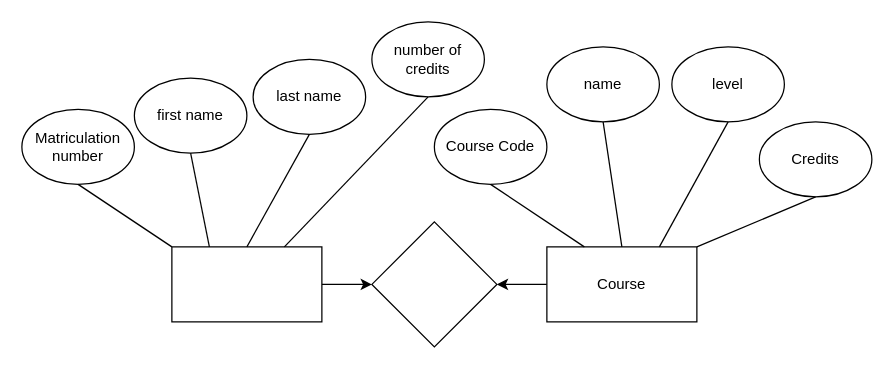
Image size: 894x369. Some labels were removed from this diagram. Each missing label, with the box of its shape:
Pass: (371, 221, 497, 347)
Student: (171, 246, 322, 322)
